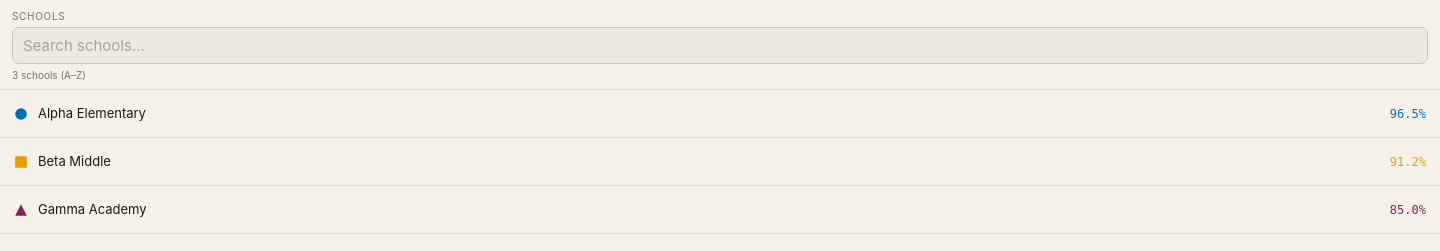
it: SchoolList › shows no results message
This screenshot has width=1440, height=251.
Type "zzzzz" into the search field with placeholder "Search schools…" at (720, 46), box [12,27,1428,64]
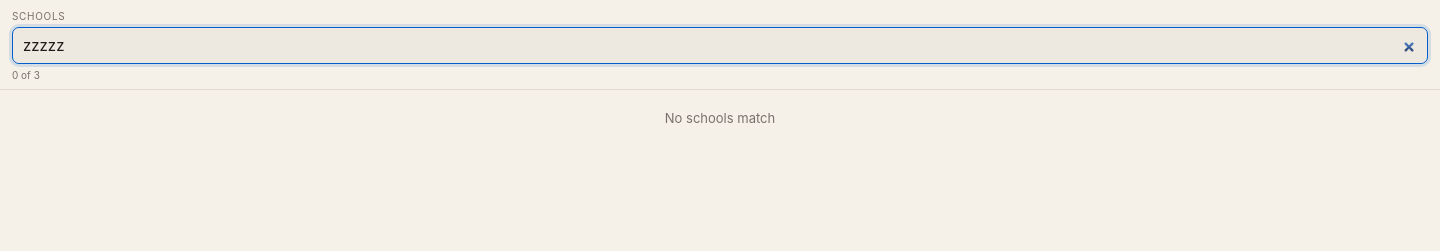
expect the text "No schools match" is shown: met, box [665,110,775,126]
